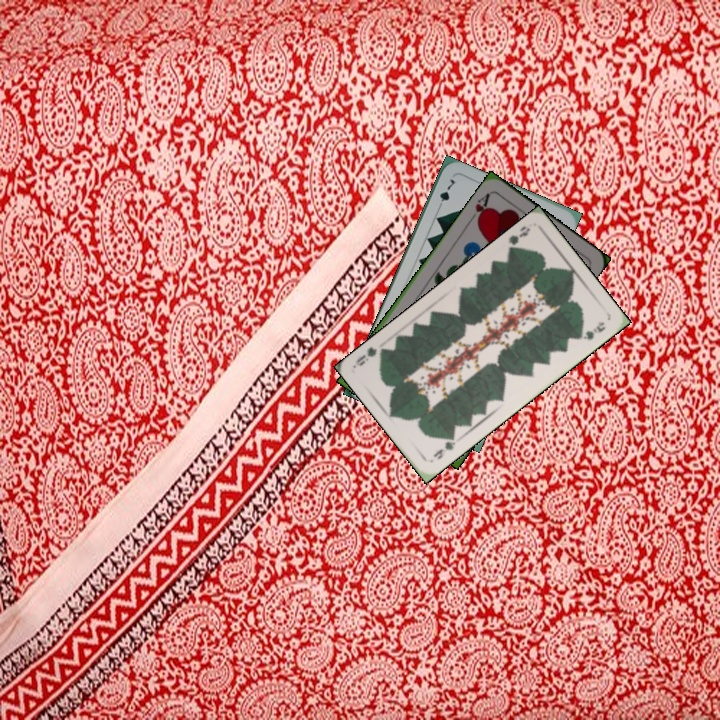G7: (434, 175, 457, 212)
G9: (504, 222, 533, 256), (429, 430, 458, 462)
HA: (465, 188, 493, 227)
